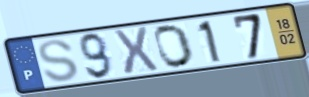1: (196, 18, 223, 65)
7: (231, 12, 264, 61)
9: (78, 31, 115, 81)
O: (153, 23, 196, 70)
S: (36, 38, 81, 84)
X: (111, 26, 162, 78)
